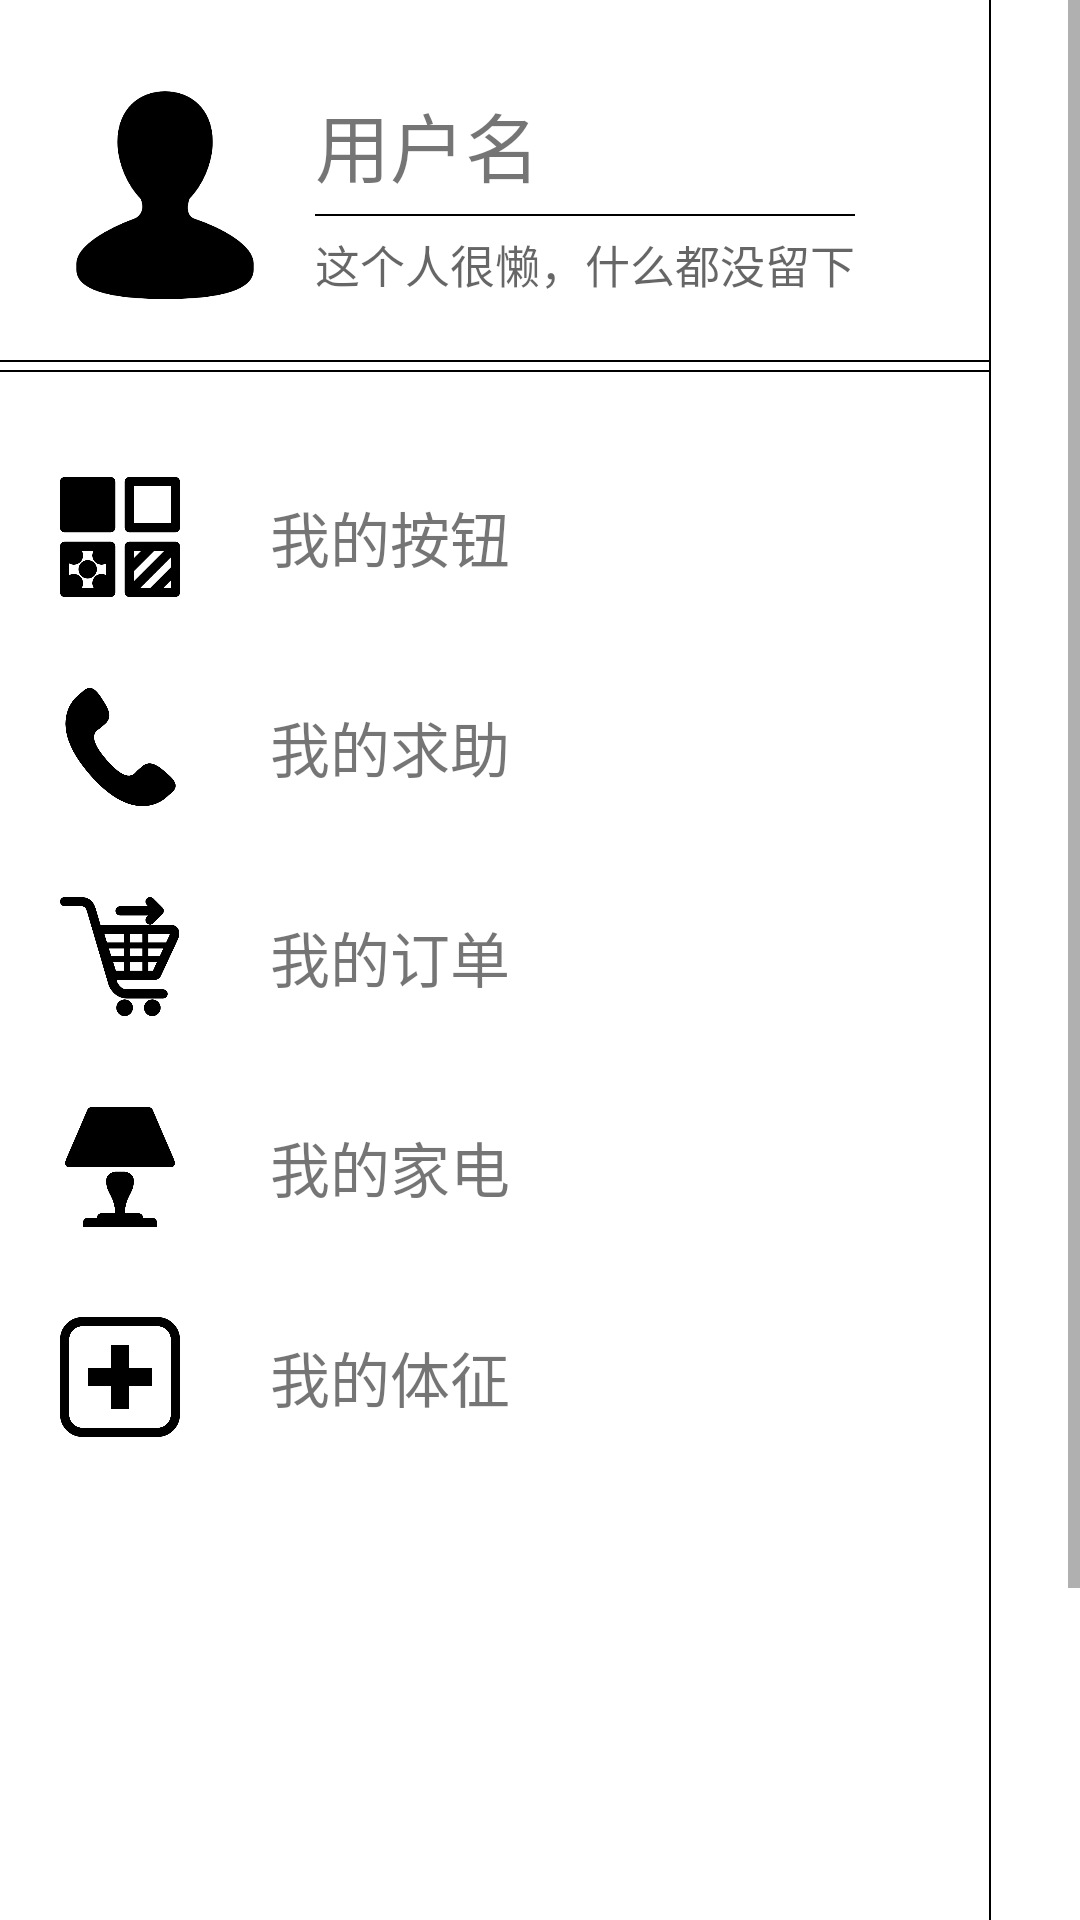

Point at icon controls on the screen. Image size 1080 × 1920, points as (x=x, y=y).
face: (x=165, y=195)
furniture: (x=120, y=1167)
health: (x=120, y=1377)
help: (x=120, y=747)
order: (x=119, y=956)
